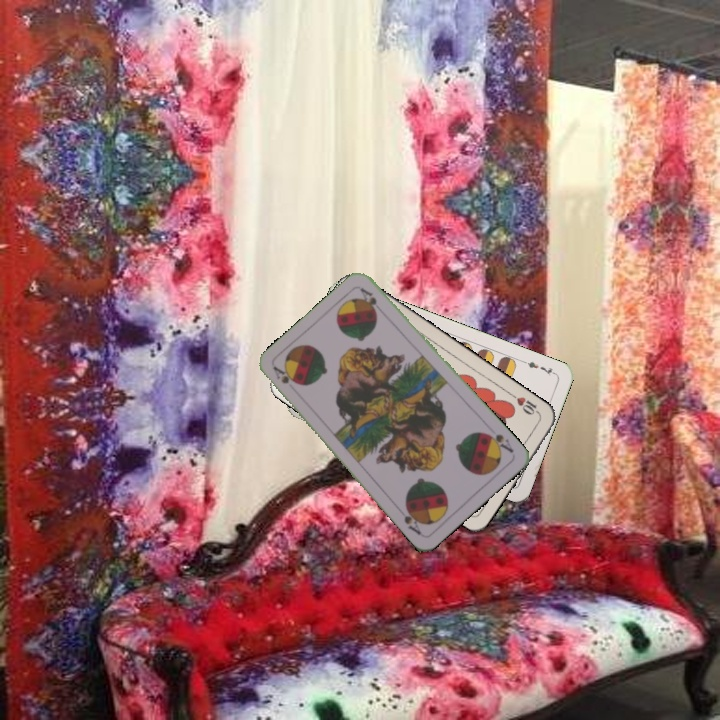E7: (519, 356, 558, 378)
H10: (507, 390, 543, 418)
SA: (480, 428, 516, 456), (269, 362, 299, 387)
